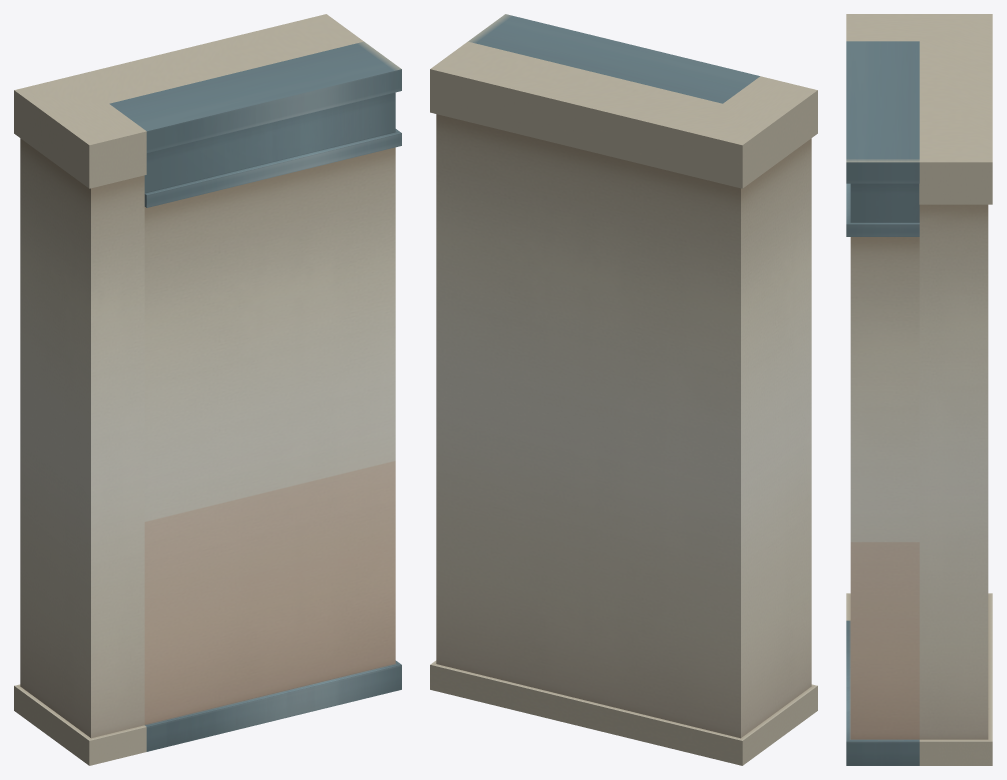
The model's file is set_pillar_01_19.fbx.
3 renders of one model, left to right at view 1: azimuth 30°, elevation 25°; view 2: azimuth 150°, elevation 25°; view 3: azimuth 270°, elevation 25°, orthographic. The views are drawn at different scales.
Visible parts, largest first — view 1: set_pillar_01_19; view 2: set_pillar_01_19; view 3: set_pillar_01_19.
Boxes of the visible parts, bbox=[...] form: set_pillar_01_19: bbox=[14, 14, 401, 765]; set_pillar_01_19: bbox=[430, 14, 817, 765]; set_pillar_01_19: bbox=[846, 14, 992, 765].
Size of the model in its own units: 158 by 300 by 66.
